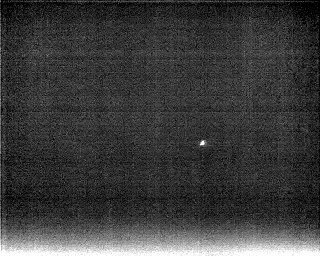BIRD: (197, 137, 209, 150)
